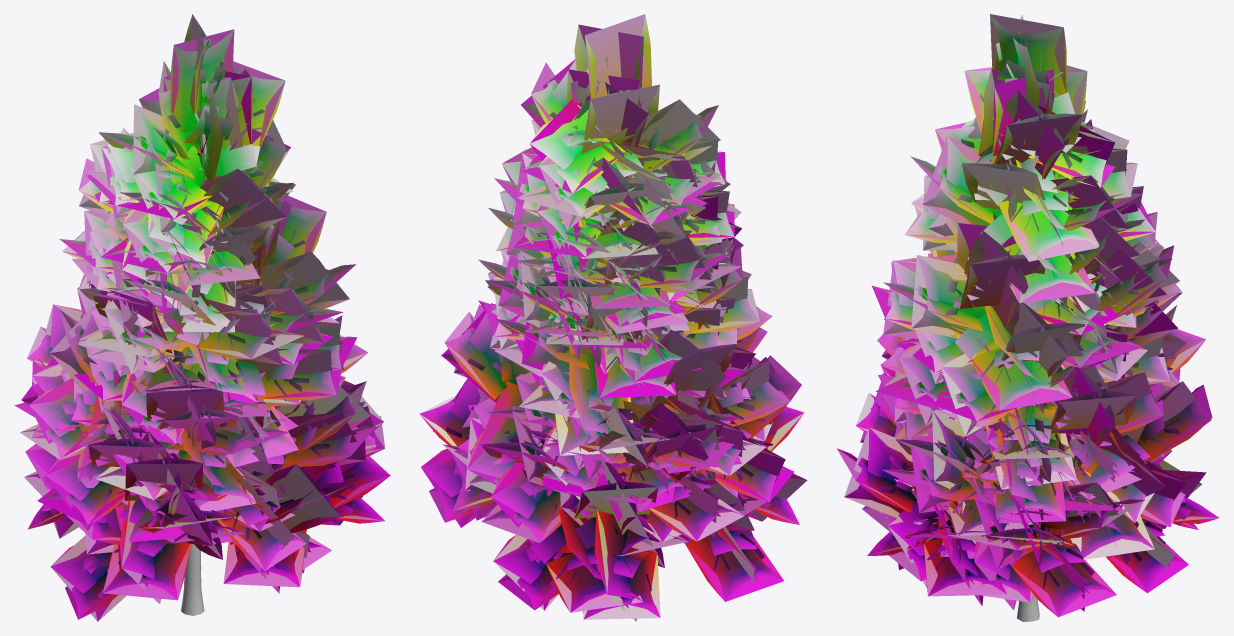
File: pine_01_4.fbx
3 views of the same model, side by side, from view 1: azimuth 30°, elevation 25°; view 2: azimuth 150°, elevation 25°; view 3: azimuth 270°, elevation 25° (orthographic). The views are drawn at different scales.
Parts seen in each view (by area): view 1: pine_leaves_01_4_lod_0, pine_leaves_01_4_shadow, pine_tree_01_4_lod_0; view 2: pine_leaves_01_4_lod_0, pine_leaves_01_4_shadow; view 3: pine_leaves_01_4_lod_0, pine_leaves_01_4_shadow.
Part boxes in pixels (<box>): pine_leaves_01_4_lod_0: <box>17,14,390,621</box>; pine_leaves_01_4_shadow: <box>14,14,389,621</box>; pine_tree_01_4_lod_0: <box>181,134,206,615</box>; pine_leaves_01_4_lod_0: <box>419,15,805,621</box>; pine_leaves_01_4_shadow: <box>420,14,806,621</box>; pine_leaves_01_4_lod_0: <box>837,14,1218,616</box>; pine_leaves_01_4_shadow: <box>836,14,1217,617</box>.
Size of what is drawn, in the model's own units: 7.77 by 12.7 by 7.36.
